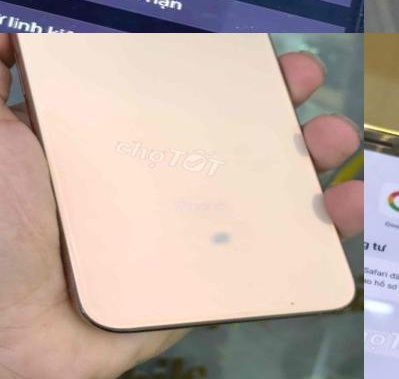scratch: (280, 286, 308, 318)
